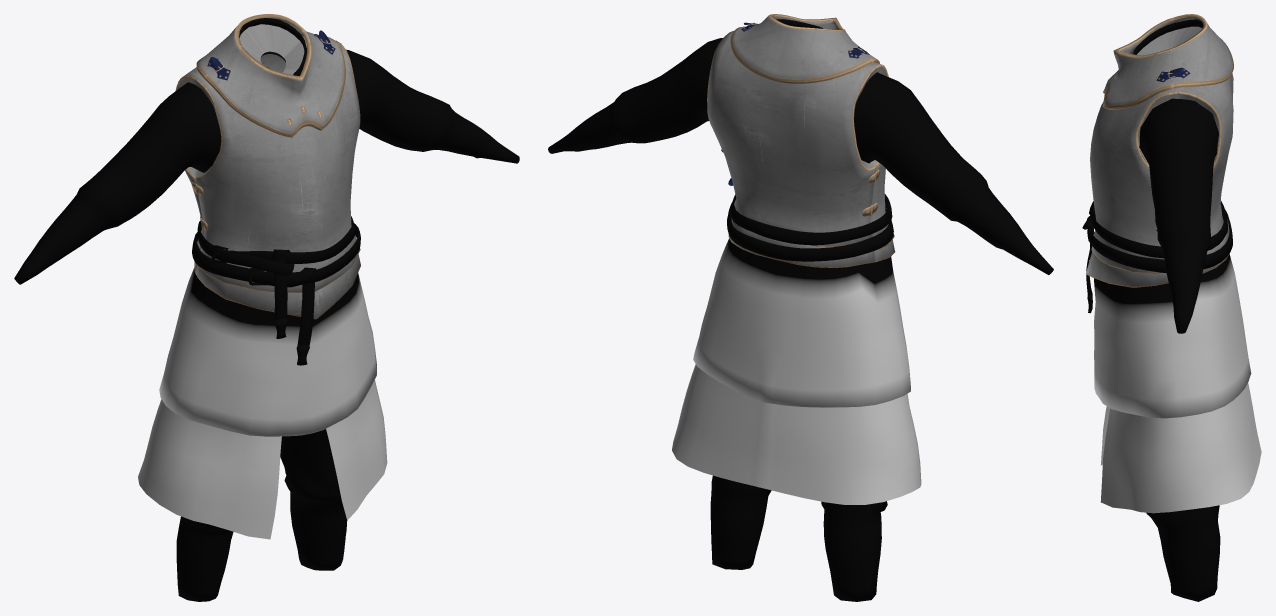
The model's file is swan_knight_armor_1b_t2_slim.fbx.
The picture shows the model from 3 angles, left to right: view 1: azimuth 30°, elevation 25°; view 2: azimuth 150°, elevation 25°; view 3: azimuth 270°, elevation 25°; orthographic projection. The views are drawn at different scales.
Parts seen in each view (by area): view 1: swan_knight_armor_1b_t2_slim.0, swan_knight_armor_1b_t2_slim.1; view 2: swan_knight_armor_1b_t2_slim.0, swan_knight_armor_1b_t2_slim.1; view 3: swan_knight_armor_1b_t2_slim.0, swan_knight_armor_1b_t2_slim.1.
Boxes of the visible parts, bbox=[...] form: swan_knight_armor_1b_t2_slim.0: bbox=[14, 18, 519, 601]; swan_knight_armor_1b_t2_slim.1: bbox=[175, 14, 360, 319]; swan_knight_armor_1b_t2_slim.0: bbox=[548, 19, 1053, 601]; swan_knight_armor_1b_t2_slim.1: bbox=[707, 14, 895, 267]; swan_knight_armor_1b_t2_slim.0: bbox=[1082, 19, 1261, 601]; swan_knight_armor_1b_t2_slim.1: bbox=[1086, 14, 1233, 287].
Size of the model in its own units: 1.3 by 0.4125 by 1.38.
